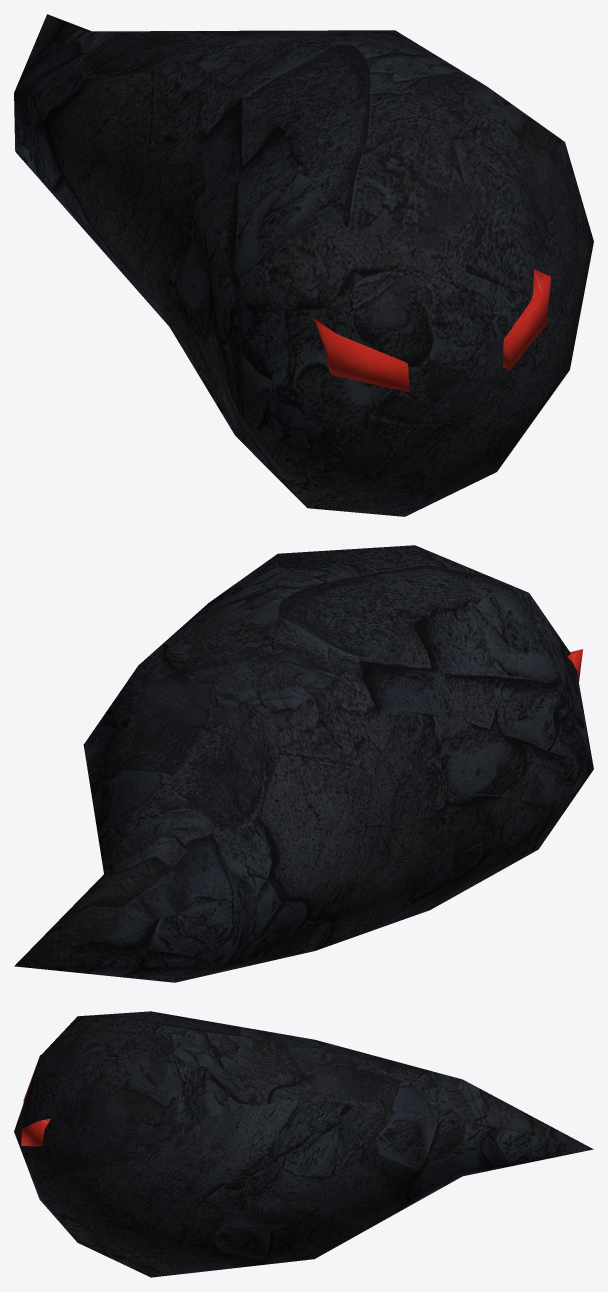
File: eel4.obj
The picture shows the model from 3 angles, top to bottom: view 1: azimuth 30°, elevation 25°; view 2: azimuth 150°, elevation 25°; view 3: azimuth 270°, elevation 25°; orthographic projection. The views are drawn at different scales.
Parts seen in each view (by area): view 1: Icosphere; view 2: Icosphere; view 3: Icosphere.
Part boxes in pixels (bbox=[...]): Icosphere: bbox=[14, 14, 593, 516]; Icosphere: bbox=[14, 545, 593, 982]; Icosphere: bbox=[14, 1011, 593, 1277].
Size of the model in its own units: 2.11 by 1.9 by 4.33.
Materials: 2 (2 with a texture image).
